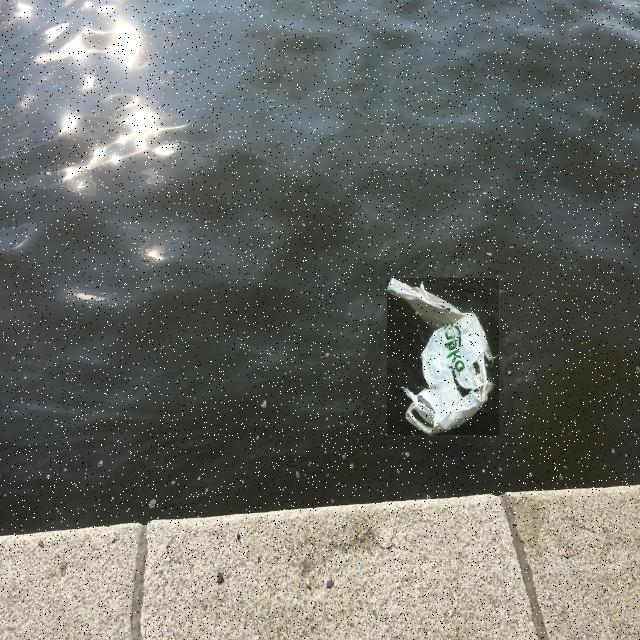Single-use carrier bag: (388, 279, 499, 435)
